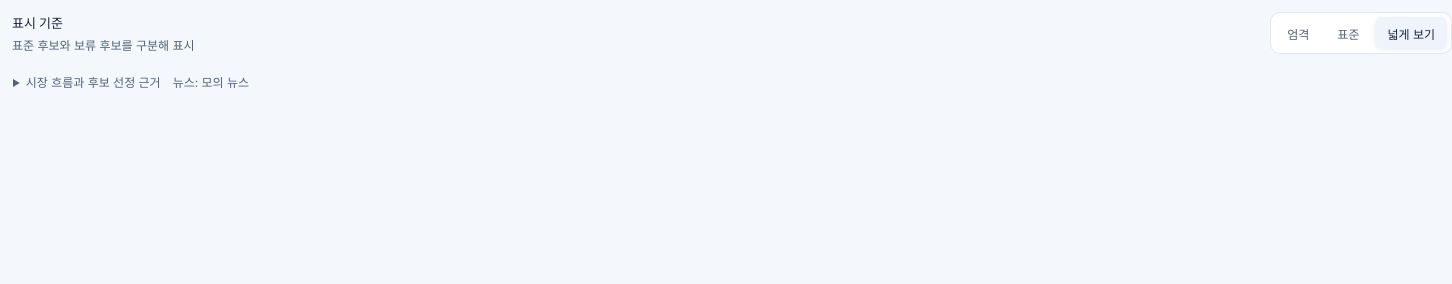
Scenario: MarketContextStrip › uses the required Korean quality summary, filter, and neutral reason labels
The image size is (1452, 284).
Step 1. Click the text "시장 흐름과 후보 선정 근거" → point(93, 82), box [26,75,161,90]
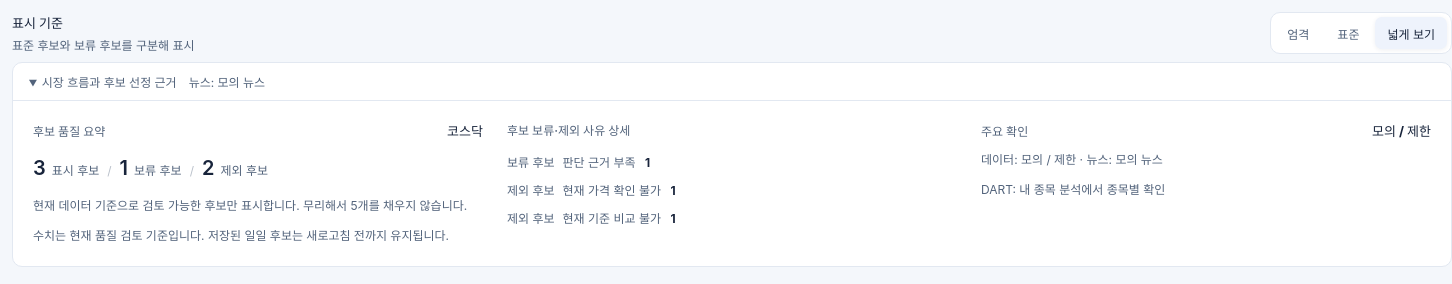
Check: the element "후보 품질 요약" shows "현재 데이터 기준으로 검토 가능한 후보만 표시합니다. 무리해서 5개를 채우지 않습니다.", box [33,121,483,246]
Check: the element "후보 보류·제외 사유 상세" shows "보류 후보판단 근거 부족 1", box [507,123,676,226]
Check: the element "후보 보류·제외 사유 상세" shows "제외 후보현재 가격 확인 불가 1", box [507,123,676,226]
